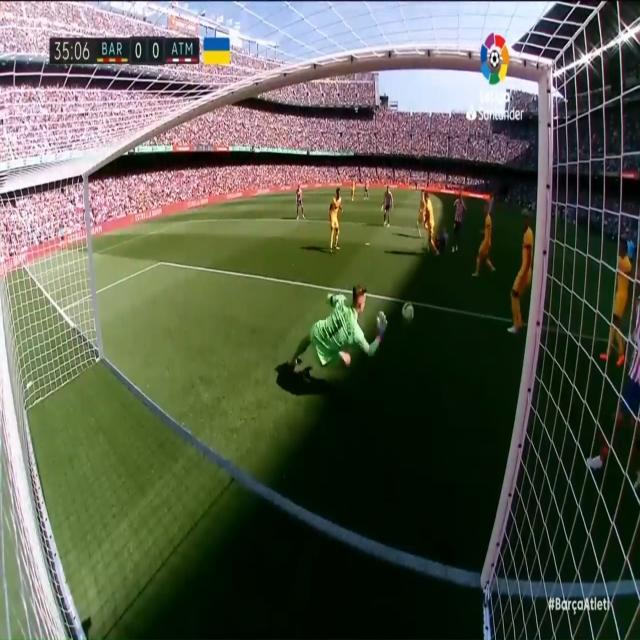ball: (400, 294, 416, 339)
player: (260, 260, 426, 420), (594, 238, 630, 362), (507, 199, 533, 345), (476, 195, 496, 286), (419, 187, 437, 261), (450, 190, 470, 255), (327, 184, 344, 257), (423, 218, 454, 254), (413, 185, 428, 243), (379, 182, 397, 230), (291, 177, 304, 224), (349, 177, 356, 203), (361, 176, 368, 202)
referee: (621, 222, 637, 298)
